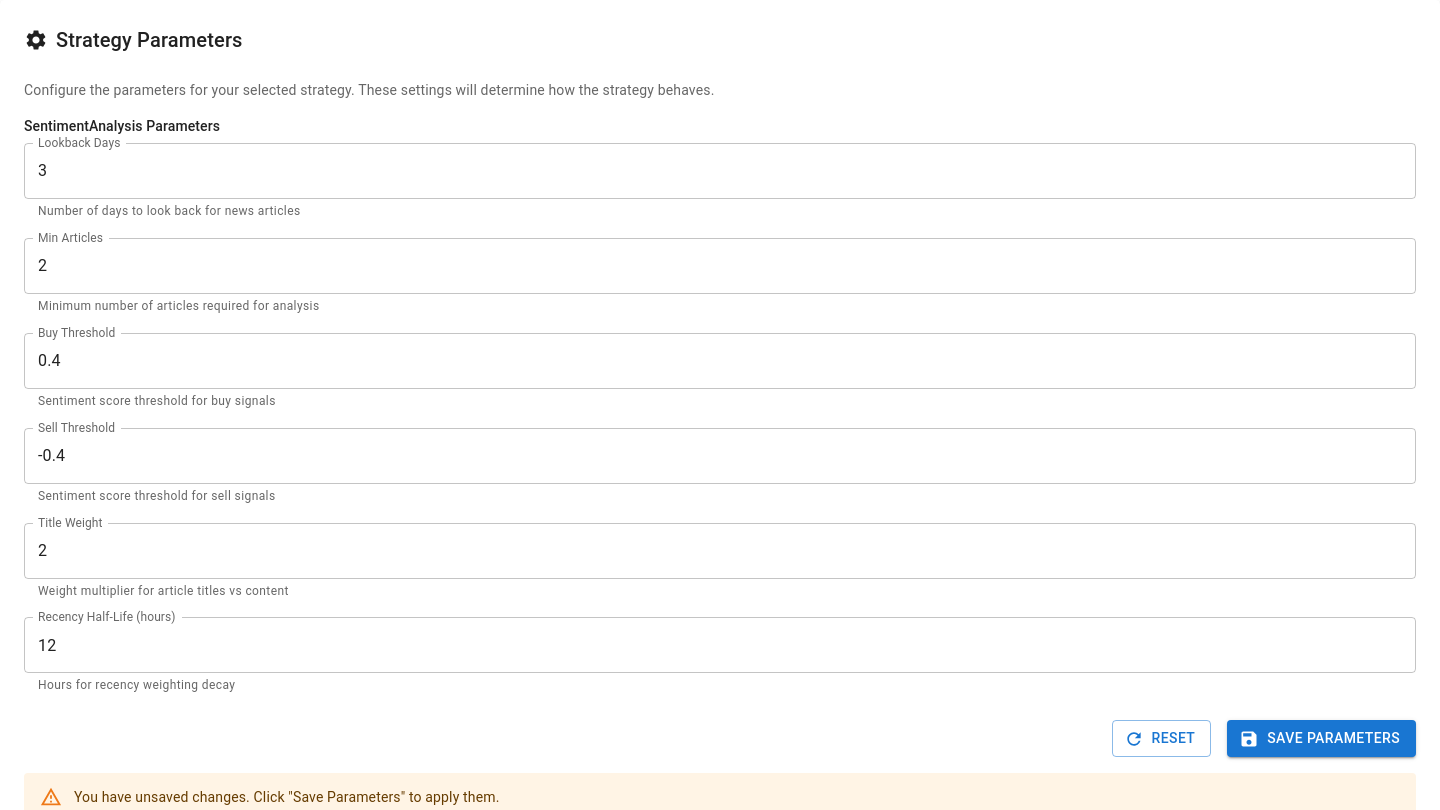
Scenario: StrategyParameters Component › Validation Logic › should validate number field maximum values correctly
Set value above maximum (max is 30)
Replace the text in the number field labelled "Lookback Days" with "31": (720,171) [24,143,1416,199]
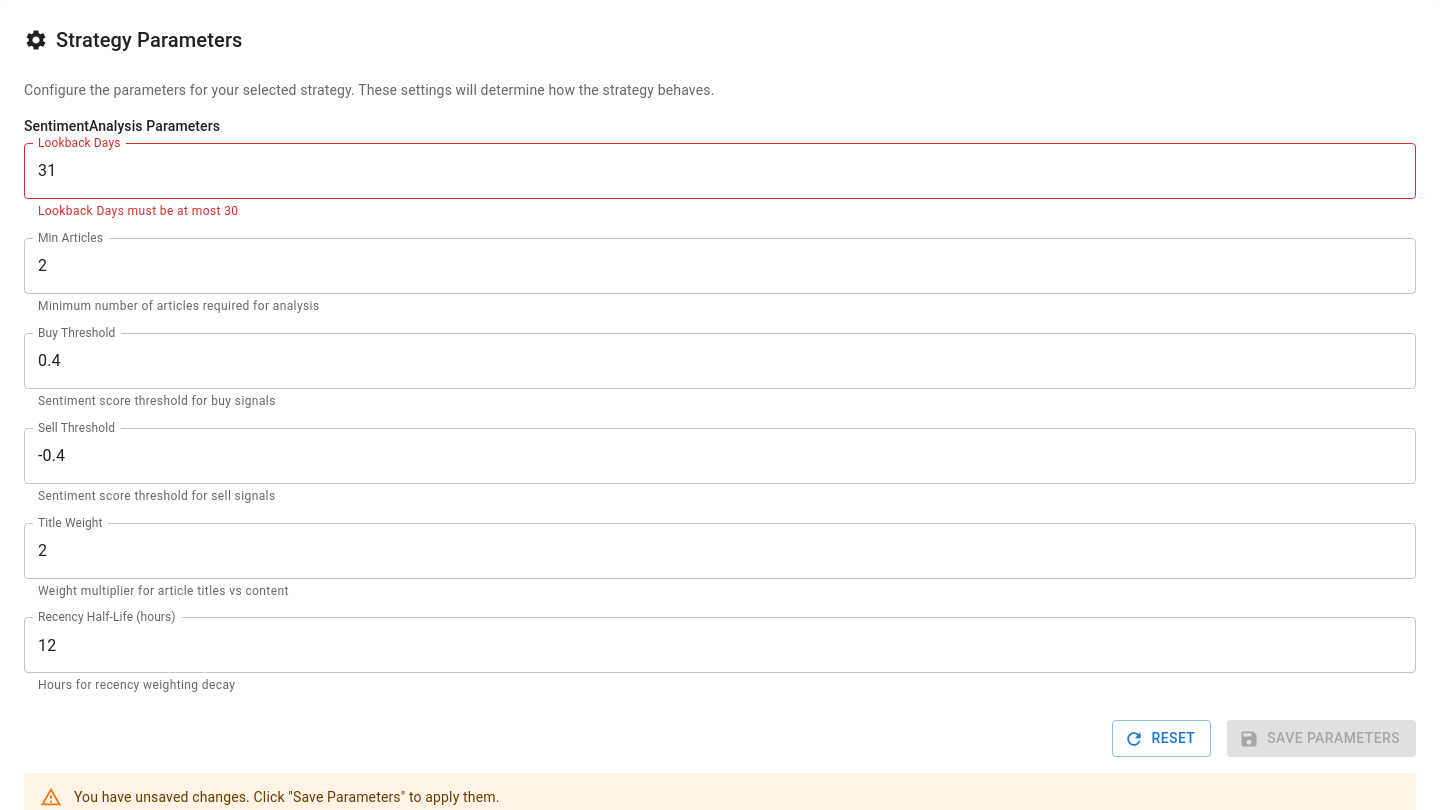
Expected: the text "Lookback Days must be at most 30" is shown, [38,204,238,218]
